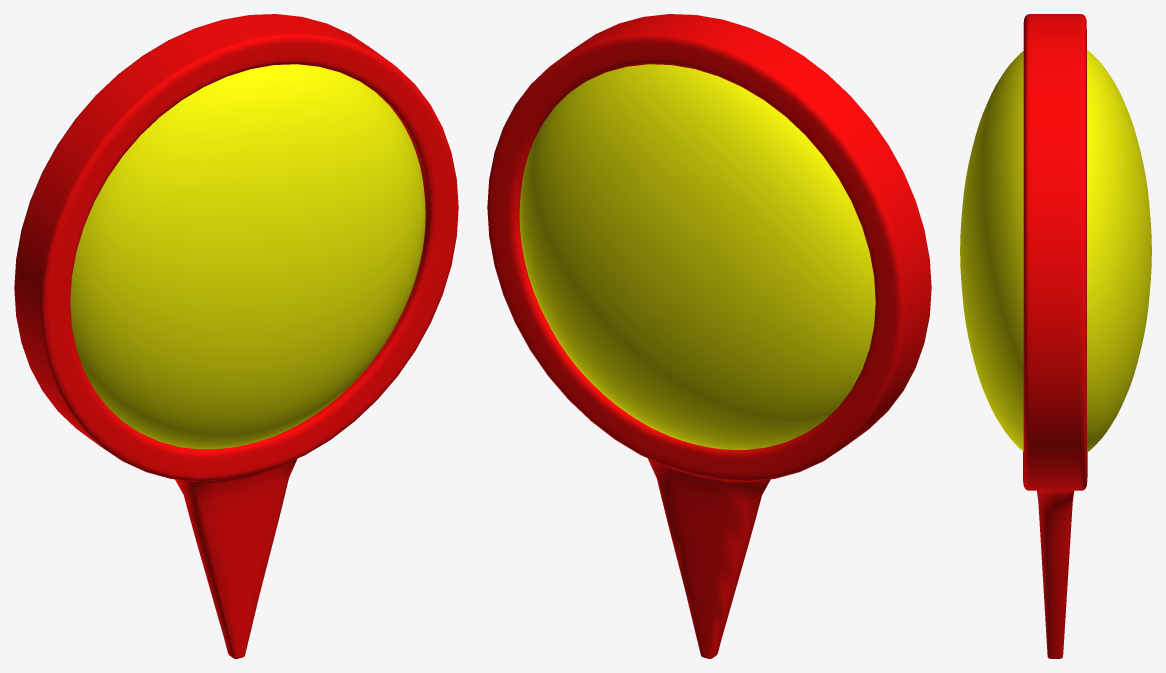
The model's file is iconLocation.glb.
The picture shows the model from 3 angles, left to right: view 1: azimuth 30°, elevation 25°; view 2: azimuth 150°, elevation 25°; view 3: azimuth 270°, elevation 25°; orthographic projection.
Visible parts, largest first — view 1: Pointer; view 2: Pointer; view 3: Pointer.
Part boxes in pixels (x1=…): Pointer: x1=14, y1=14, x2=458, y2=658; Pointer: x1=487, y1=14, x2=931, y2=658; Pointer: x1=960, y1=14, x2=1151, y2=658.
Bounding box in the file's own units: 0.0865 × 0.1242 × 0.0348.
